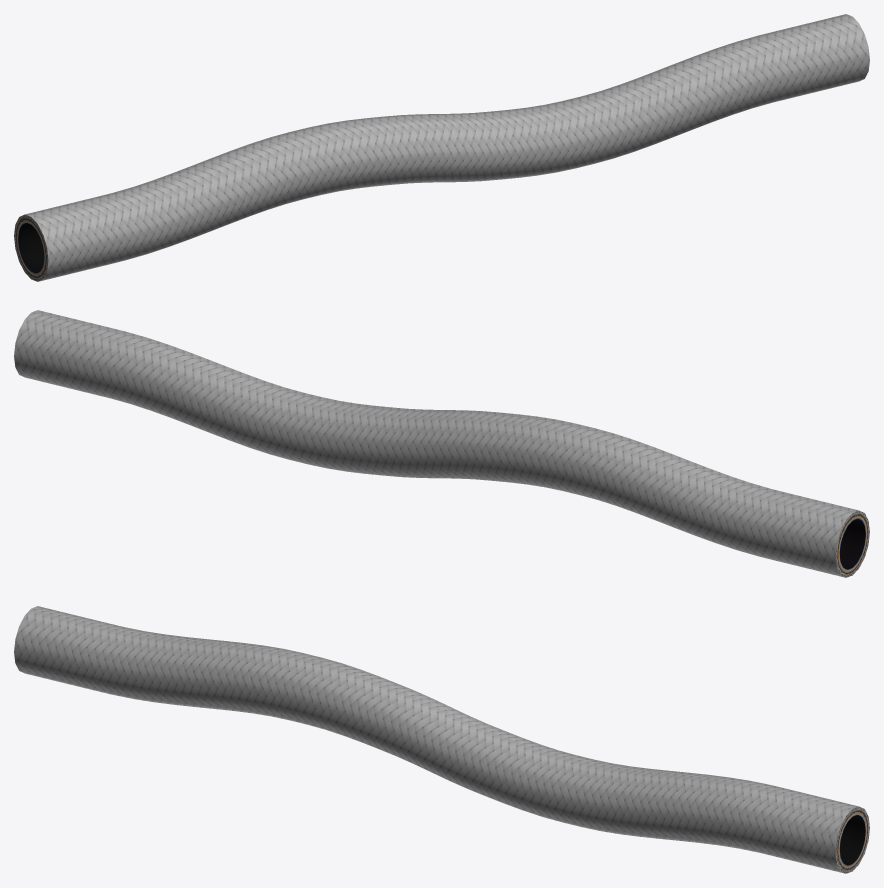
3 views of the same model, one above another, from view 1: azimuth 30°, elevation 25°; view 2: azimuth 150°, elevation 25°; view 3: azimuth 330°, elevation 25° (orthographic).
Visible parts, largest first — view 1: Stainless_Steel_Braid-12.001; view 2: Stainless_Steel_Braid-12.001; view 3: Stainless_Steel_Braid-12.001.
Part boxes in pixels (x1,y1,x2,y2): Stainless_Steel_Braid-12.001: (14,14,869,281); Stainless_Steel_Braid-12.001: (14,310,869,577); Stainless_Steel_Braid-12.001: (14,606,869,873).
Bounding box in the file's own units: 0.3074 × 0.0351 × 0.0224.
Materials: 2 (2 with a texture image).
